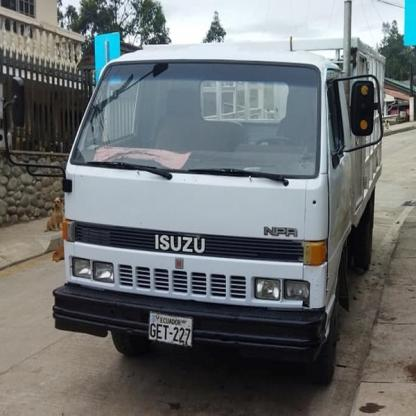Placa: (147, 308, 196, 353)
